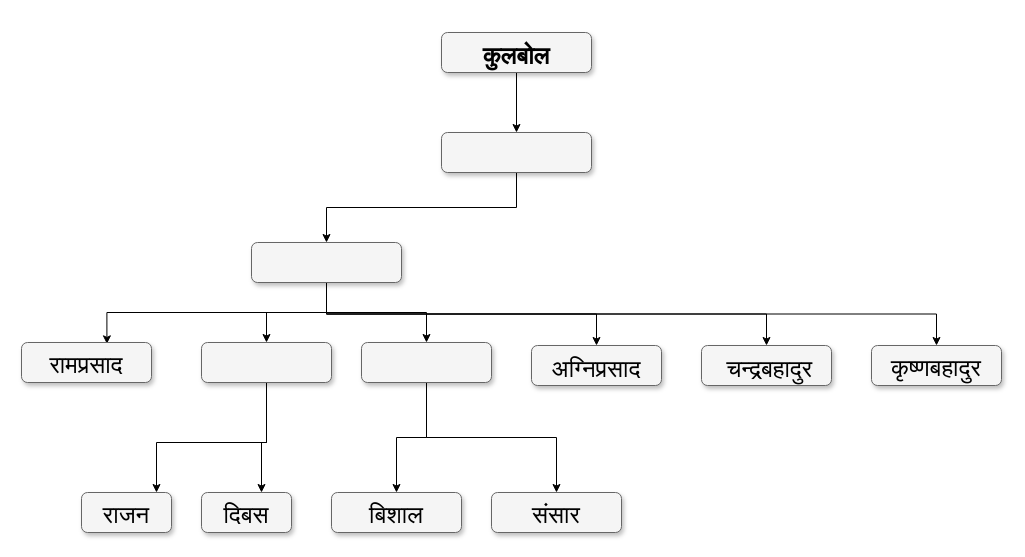
The diagram is 1025 pixels wide and 557 high, and some of its shapes have lost their labels. Here are the shapes that lost their labels. From the top down, the centre of each, then its label:
(517,154): अदाल्सिंह
(327,264): भवानीप्रसाद
(267,364): भर्तबहदुर
(427,364): बिक्रम बि
